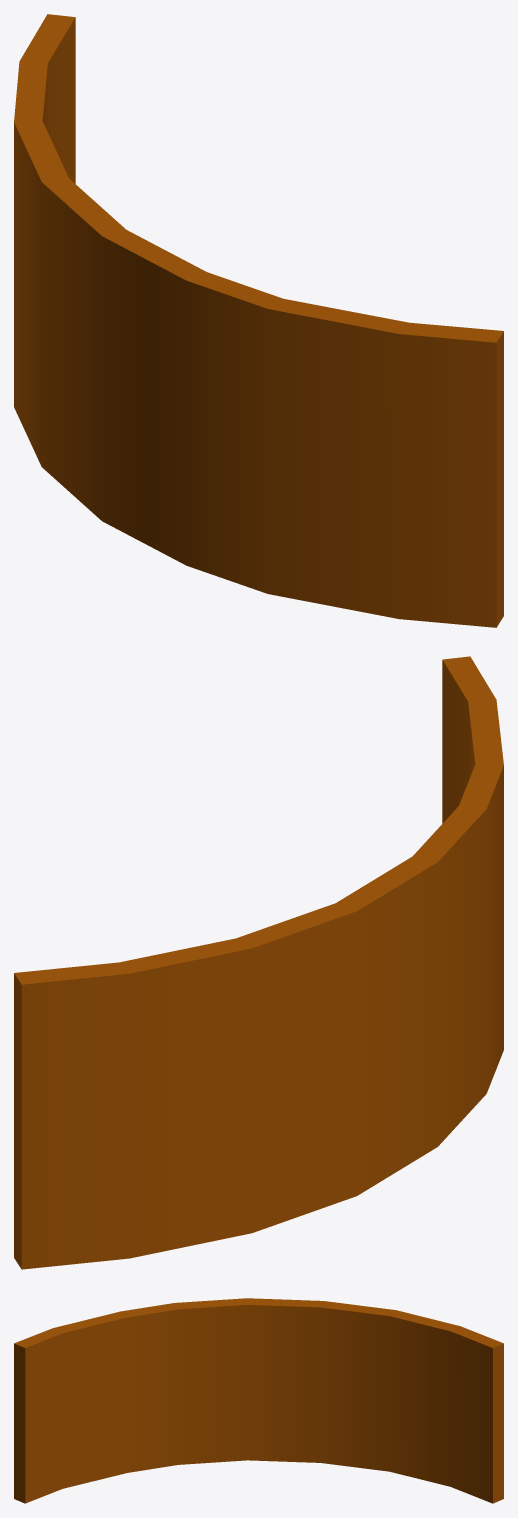
File: Shelf_Back_Bend.fbx
3 views of the same model, one above another, from view 1: azimuth 30°, elevation 25°; view 2: azimuth 150°, elevation 25°; view 3: azimuth 270°, elevation 25° (orthographic). The views are drawn at different scales.
Visible parts, largest first — view 1: Shelf_Back_Bend; view 2: Shelf_Back_Bend; view 3: Shelf_Back_Bend.
Boxes of the visible parts, box(x1,y1,x2,y2) form: Shelf_Back_Bend: box(14, 14, 503, 627); Shelf_Back_Bend: box(14, 656, 503, 1269); Shelf_Back_Bend: box(14, 1298, 503, 1503).
Bounding box in the file's own units: 37.94 × 52.98 × 148.
